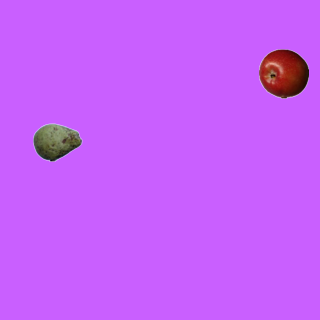Apple Braeburn: (258, 48, 308, 98)
Pear Stone: (32, 117, 82, 167)
